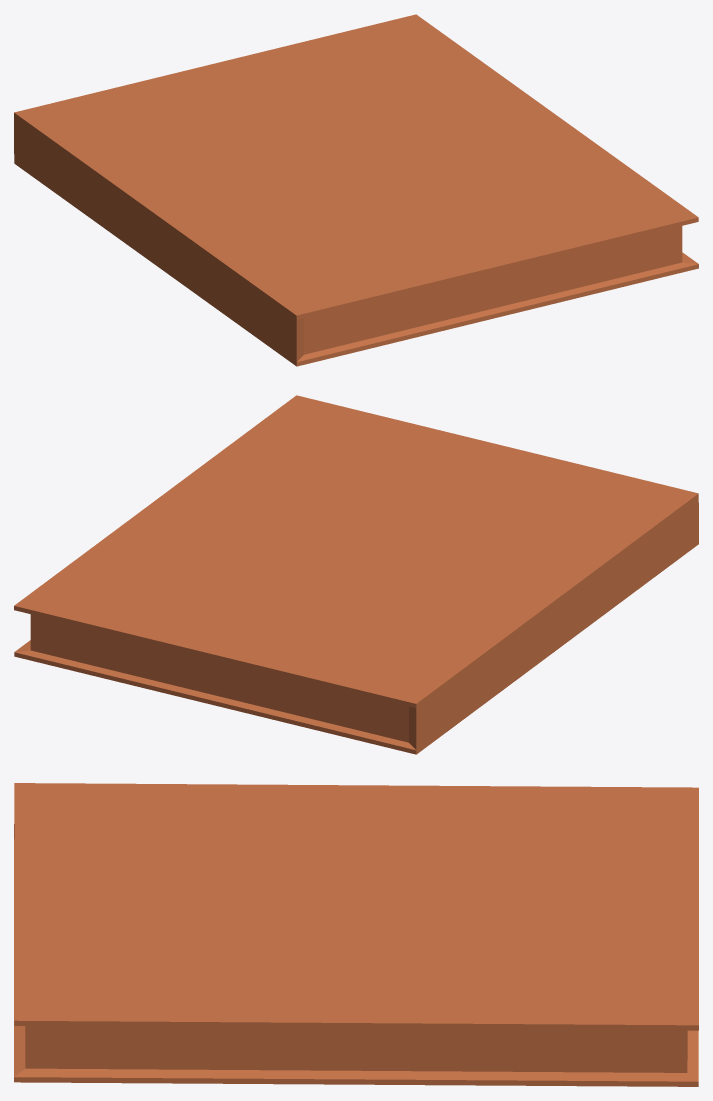
Rendered from book_S.fbx.
3 renders of one model, top to bottom at view 1: azimuth 30°, elevation 25°; view 2: azimuth 150°, elevation 25°; view 3: azimuth 270°, elevation 25°, orthographic. The views are drawn at different scales.
Visible parts, largest first — view 1: book_s; view 2: book_s; view 3: book_s.
Part boxes in pixels (bbox=[...]): book_s: bbox=[14, 14, 698, 366]; book_s: bbox=[14, 395, 698, 754]; book_s: bbox=[14, 783, 698, 1086].
Bounding box in the file's own units: 20.52 × 2.66 × 24.99.
